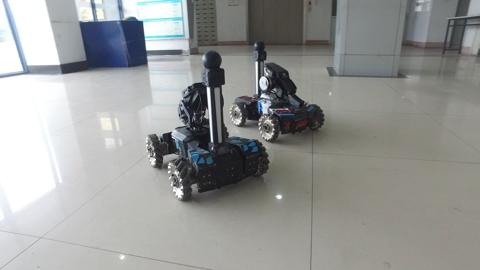chariot: (141, 47, 275, 199), (229, 38, 324, 150)
